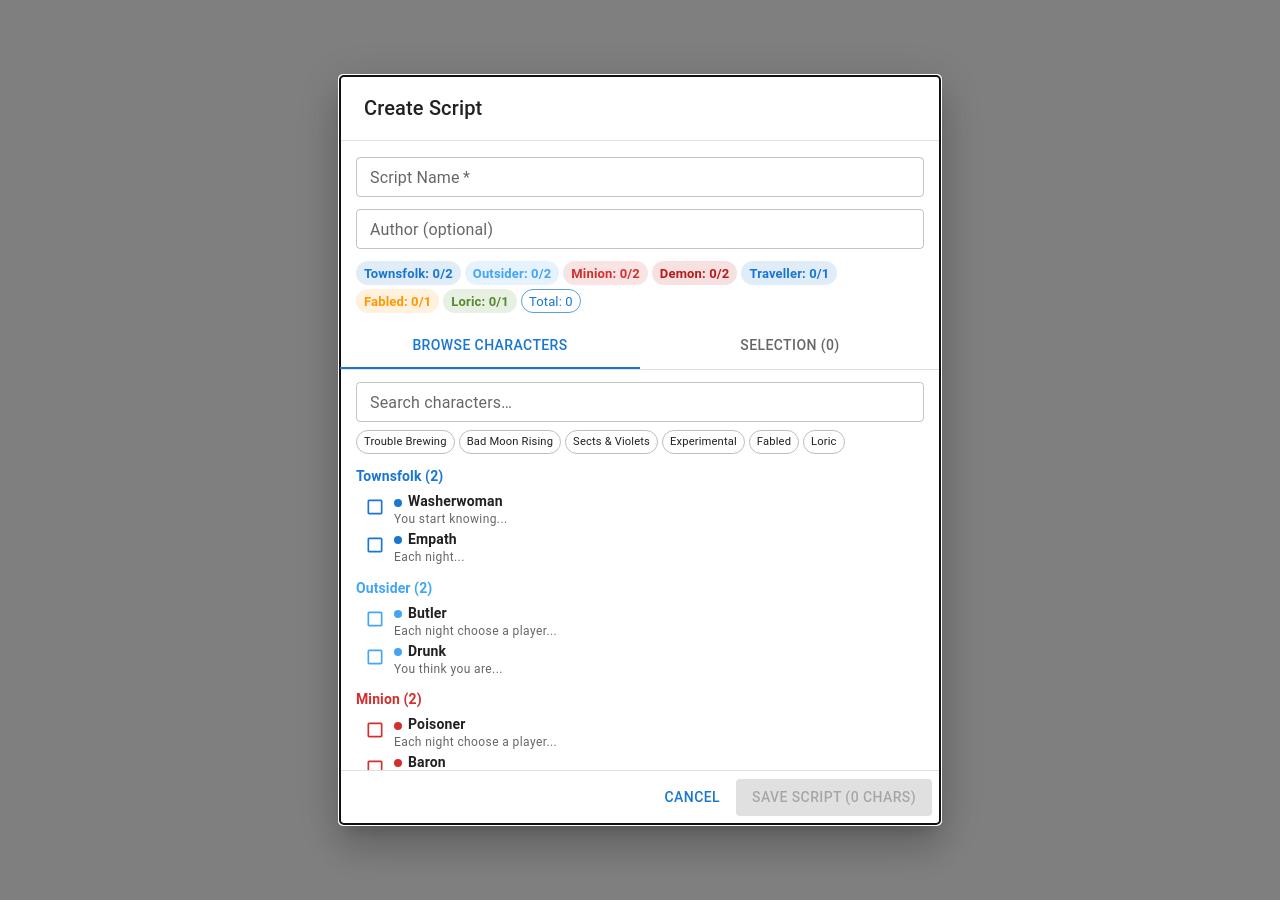
Test: ScriptBuilder › switching to Selection tab shows empty state when no characters selected
Step 1. Click the tab "Selection (0)" → (790, 345), box [640, 321, 940, 369]
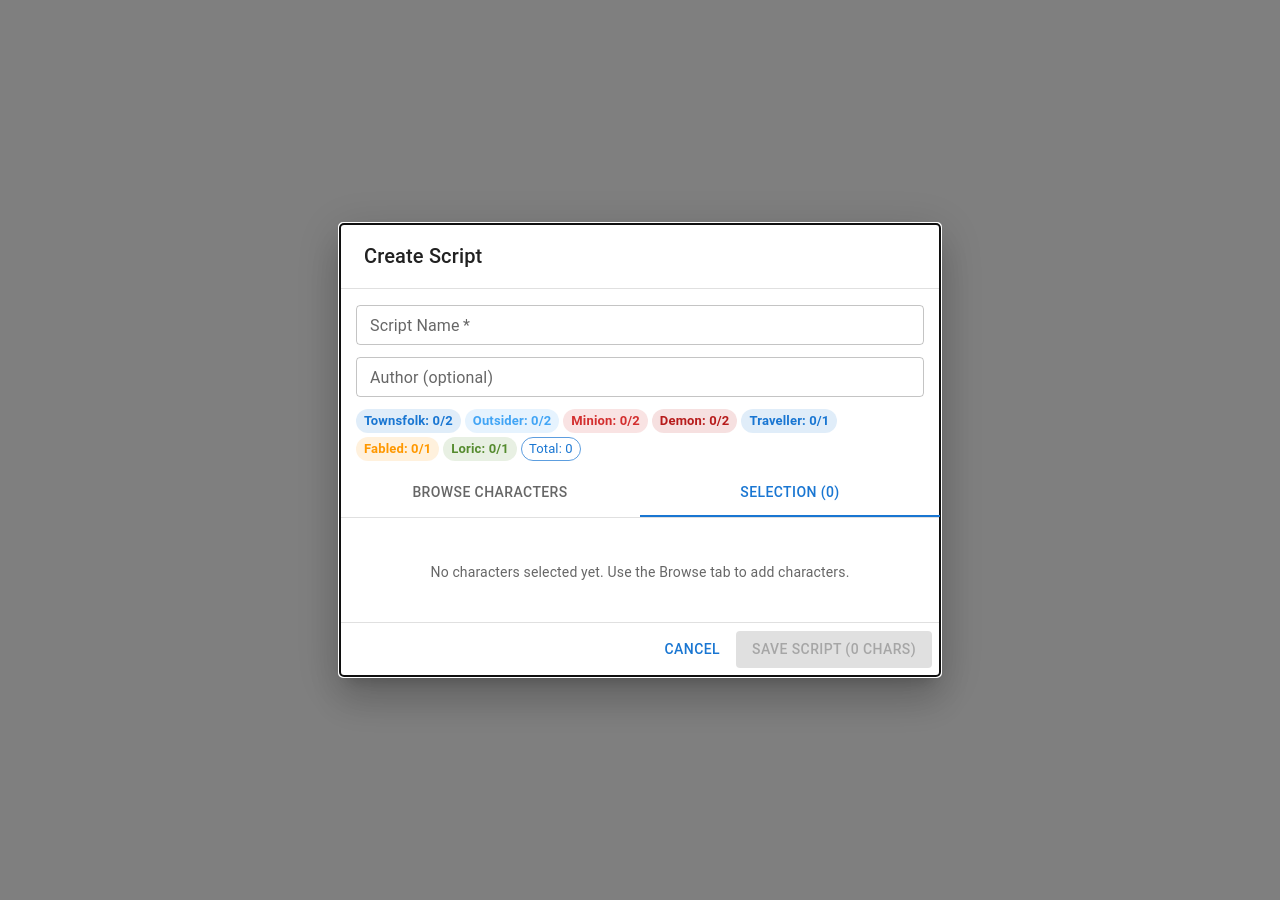
Result: the text "No characters selected yet" is shown at [430, 564, 850, 580]
